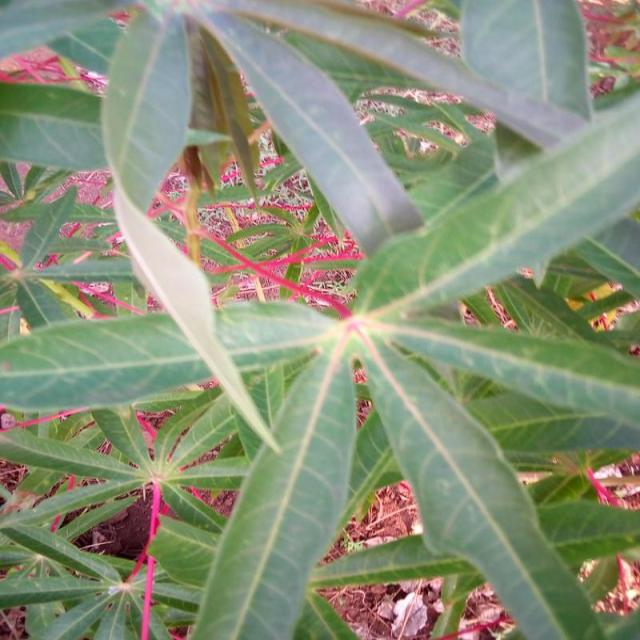cassava leaf: (1, 0, 638, 639), (186, 348, 358, 638)
